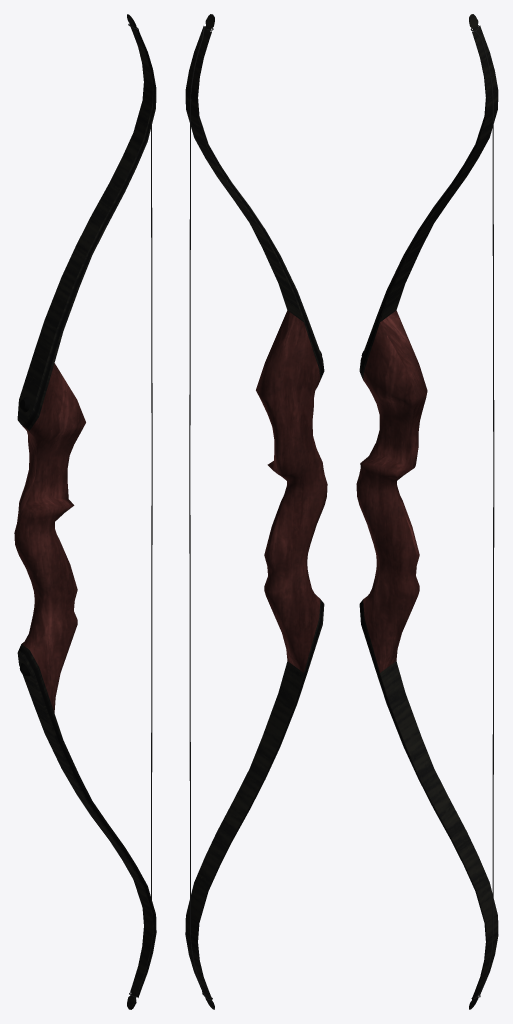
Rendered from bow.fbx.
The picture shows the model from 3 angles, left to right: view 1: azimuth 30°, elevation 25°; view 2: azimuth 210°, elevation 25°; view 3: azimuth 330°, elevation 25°; orthographic projection.
Visible parts, largest first — view 1: Bow; view 2: Bow; view 3: Bow.
Boxes of the visible parts, left/top/right/bottom form: Bow: left=14, top=14, right=156, bottom=1009; Bow: left=185, top=14, right=327, bottom=1009; Bow: left=356, top=14, right=498, bottom=1009.
Size of the model in its own units: 19.23 by 134 by 4.11.
